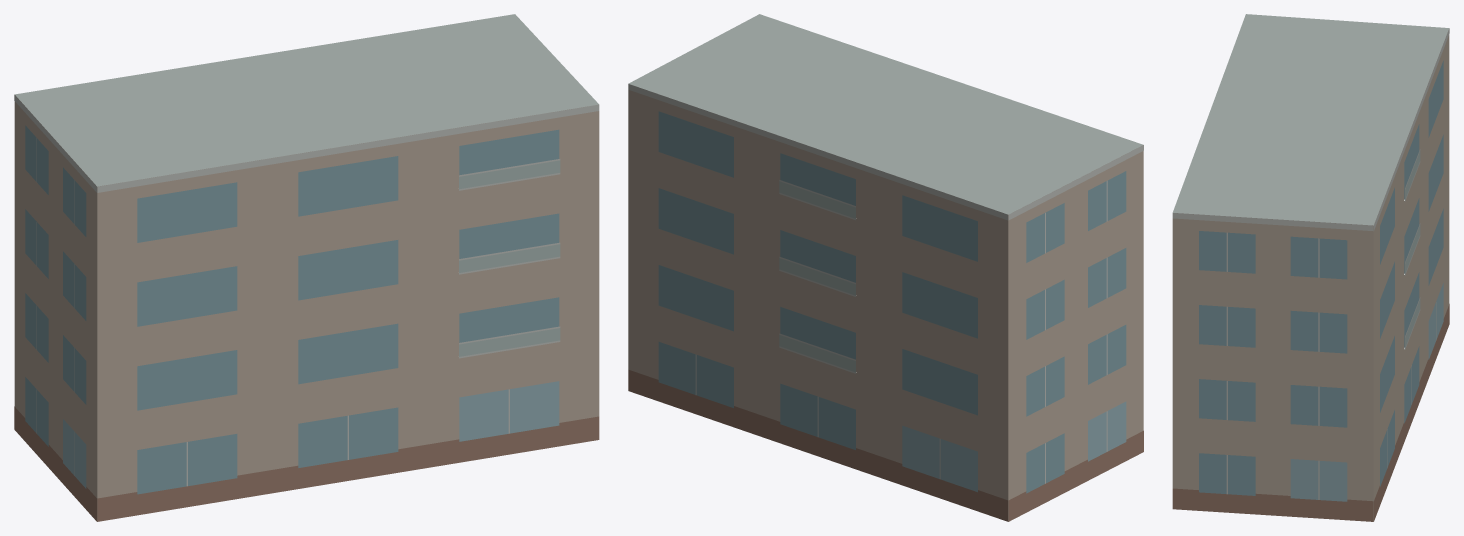
The model's file is survey-upis-32871246.glb.
The picture shows the model from 3 angles, left to right: view 1: azimuth 30°, elevation 25°; view 2: azimuth 150°, elevation 25°; view 3: azimuth 270°, elevation 25°; orthographic projection. The views are drawn at different scales.
Visible parts, largest first — view 1: survey-upis-32871246.tmp; view 2: survey-upis-32871246.tmp; view 3: survey-upis-32871246.tmp.
Part boxes in pixels (x1,y1,x2,y2): survey-upis-32871246.tmp: (14, 14, 599, 521); survey-upis-32871246.tmp: (628, 14, 1143, 521); survey-upis-32871246.tmp: (1172, 14, 1449, 521).
Bounding box in the file's own units: 19.44 × 12.7 × 10.76.
